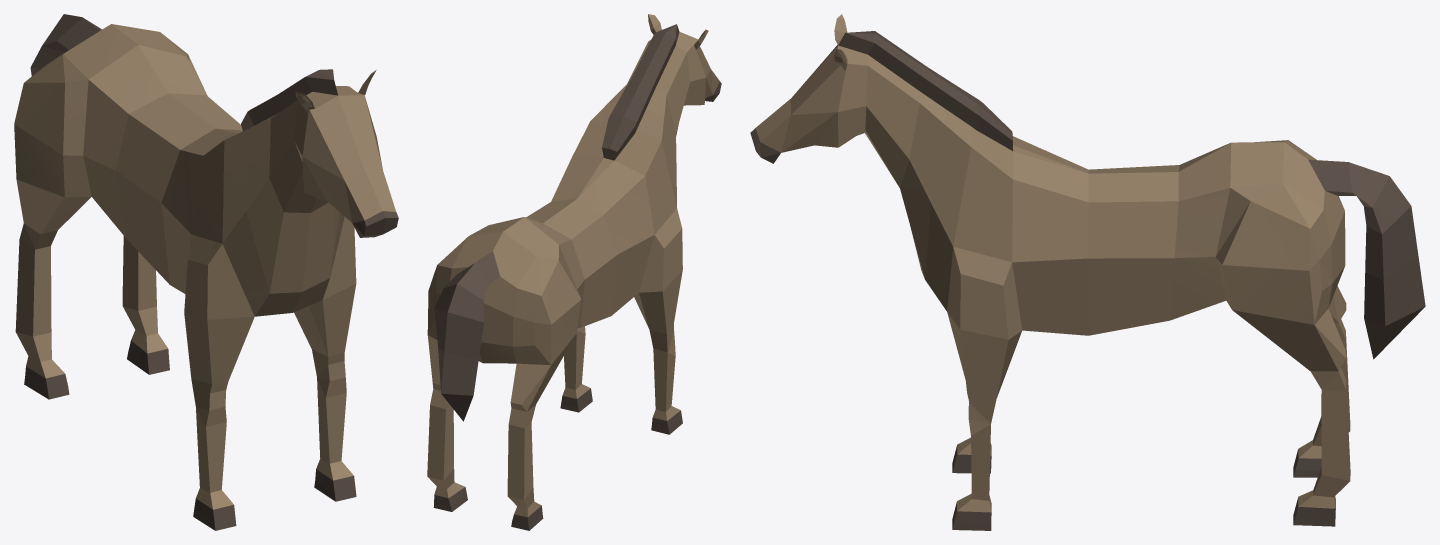
The model's file is pk_horse.glb.
3 renders of one model, left to right at view 1: azimuth 30°, elevation 25°; view 2: azimuth 150°, elevation 25°; view 3: azimuth 270°, elevation 25°, orthographic. The views are drawn at different scales.
Parts seen in each view (by area): view 1: Horse; view 2: Horse; view 3: Horse.
Boxes of the visible parts, box(x1,y1,x2,y2) form: Horse: box(14, 14, 398, 530); Horse: box(427, 14, 721, 530); Horse: box(750, 14, 1425, 530).
Bounding box in the file's own units: 0.6232 × 1.7 × 2.25.
